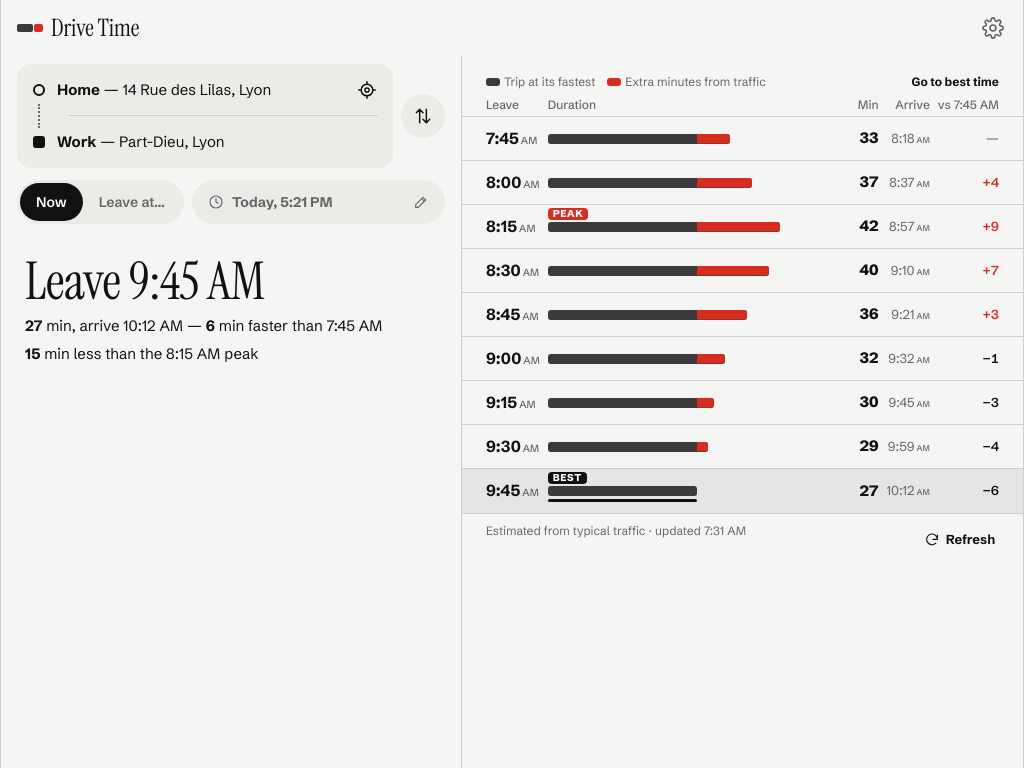
Test: App › replaces a saved Home from the shortcut list and updates a field still showing it
Click the dropdown named "To" next to "Part-Dieu, Lyon" at (223, 142), box 57,116 -> 389,168
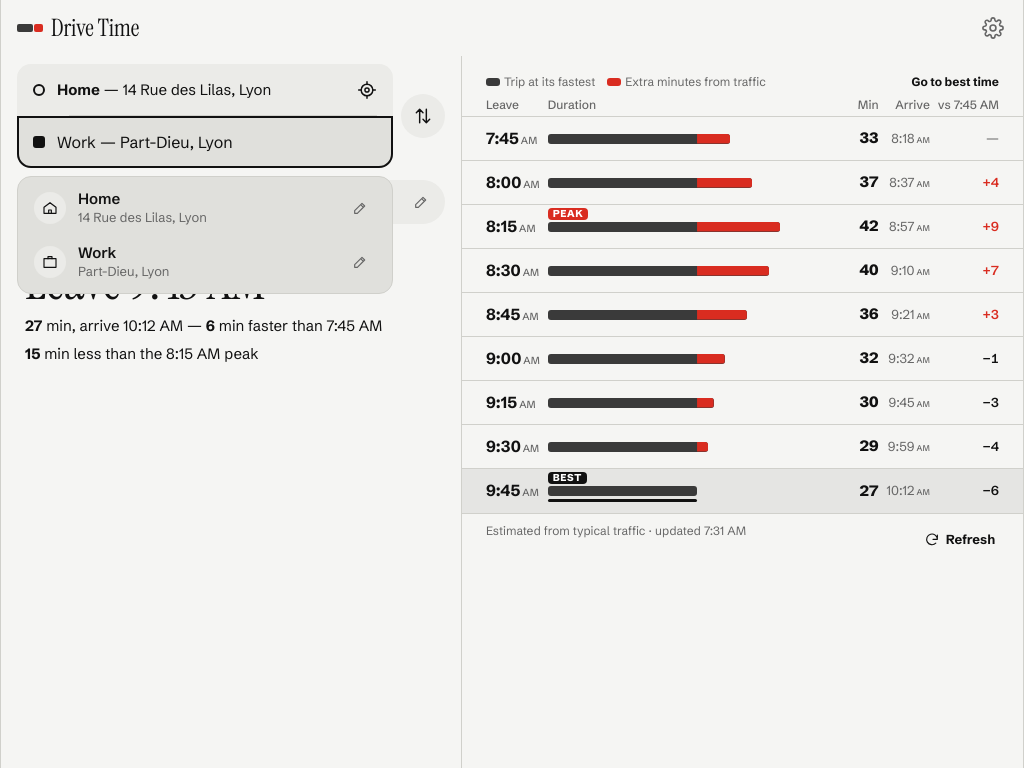
Click the button named "Change Home" at (360, 208), box 344,192 -> 376,224
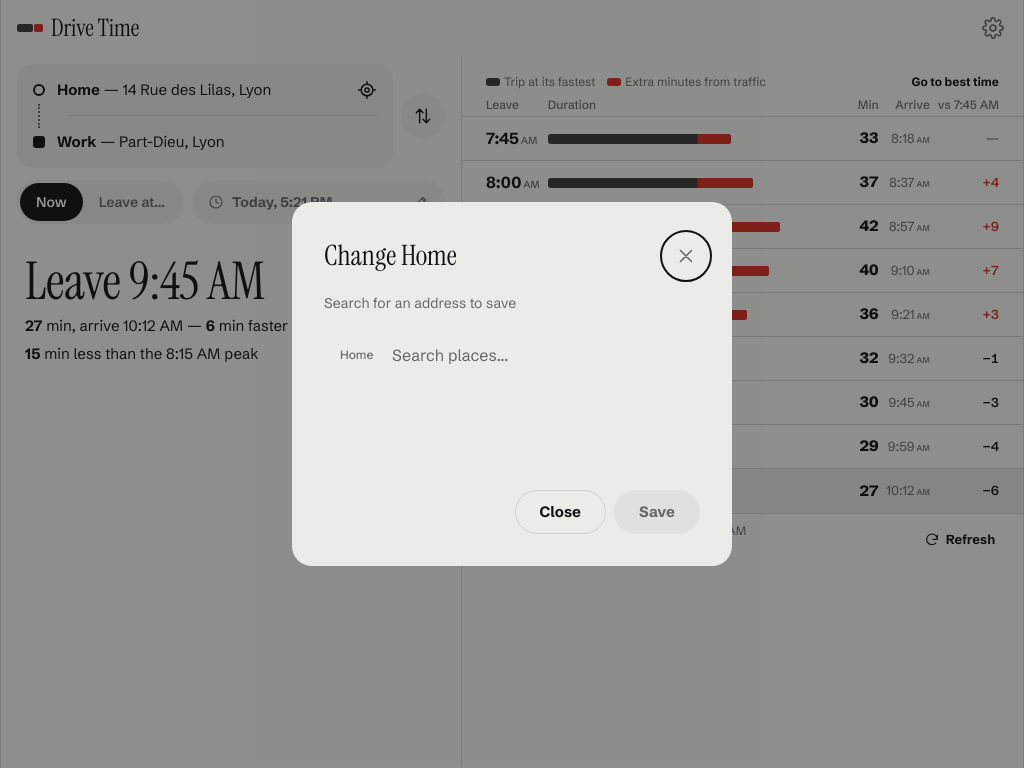
Type "quai" into the dropdown at (544, 355), box 392,329 -> 696,381
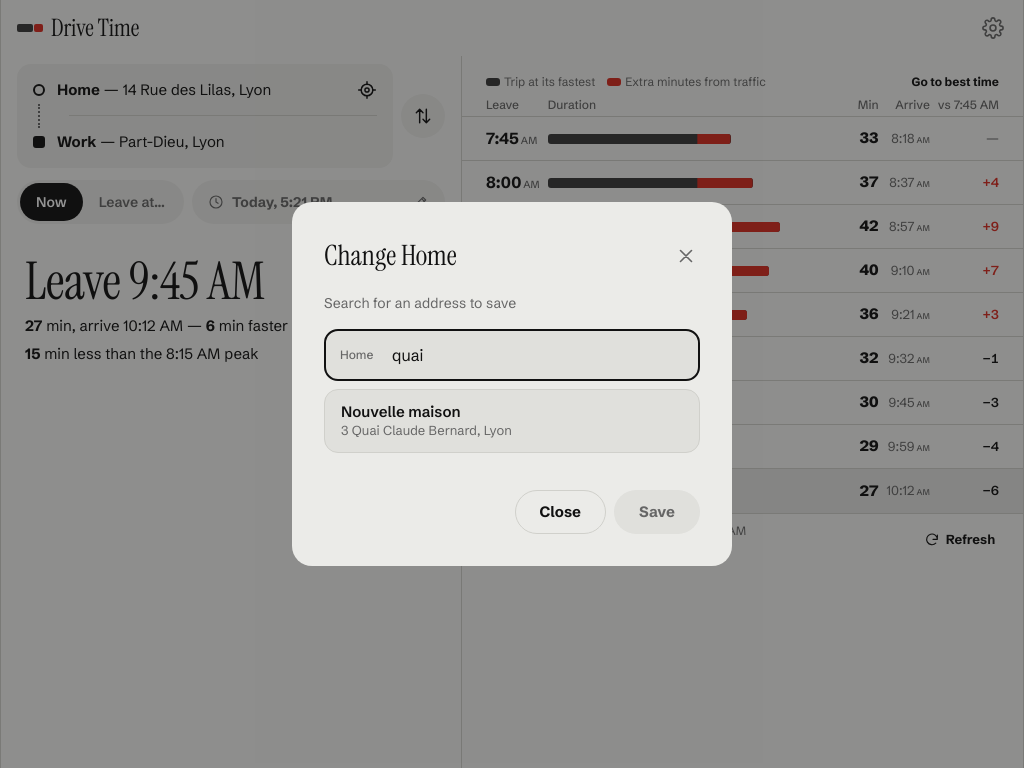
Click the option "Nouvelle maison 3 Quai Claude Bernard, Lyon" at (426, 420), box 341,402 -> 512,438
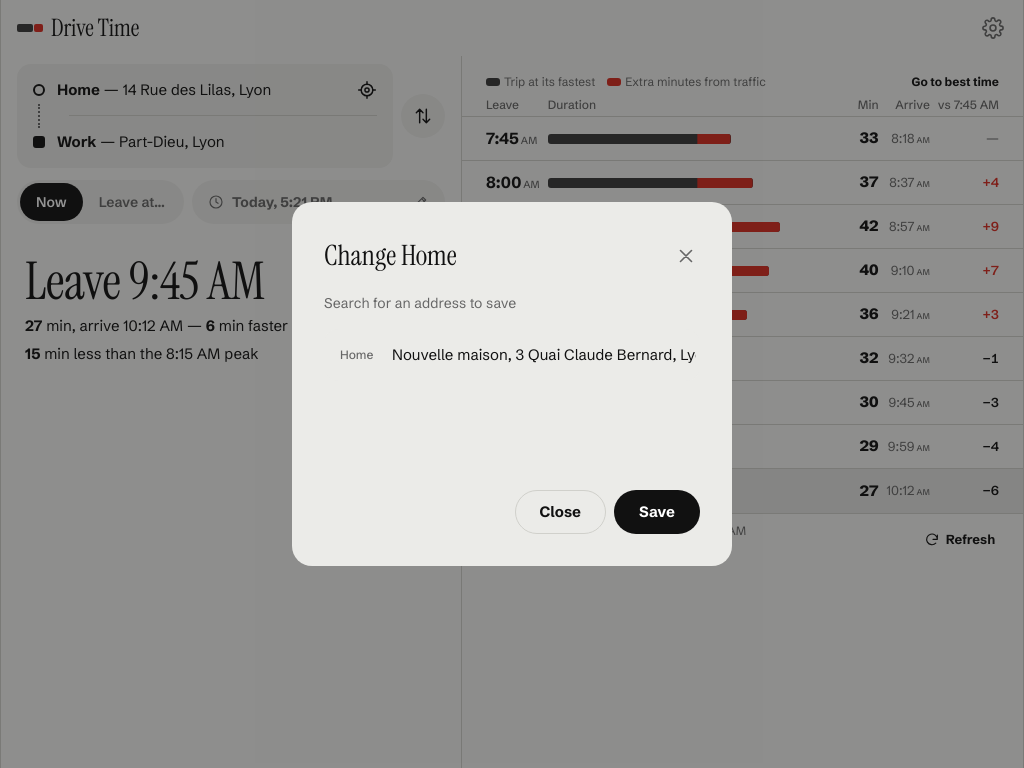
Click the button "Save" at (657, 512), box 614,490 -> 700,534
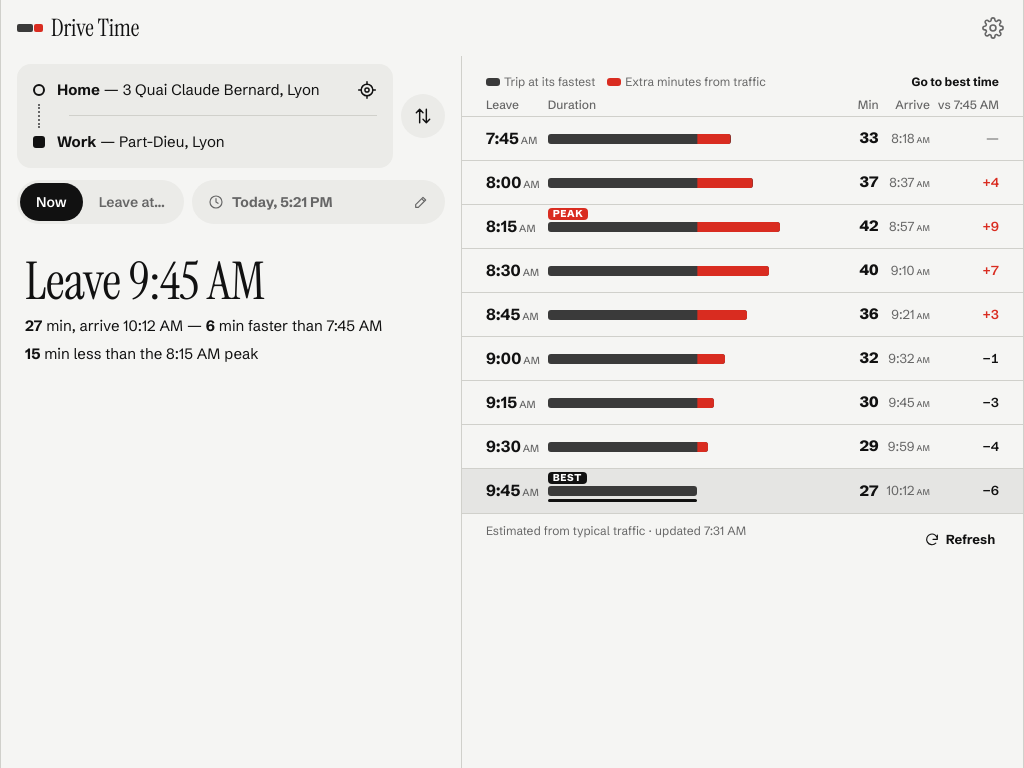
expect the dialog is gone: met
